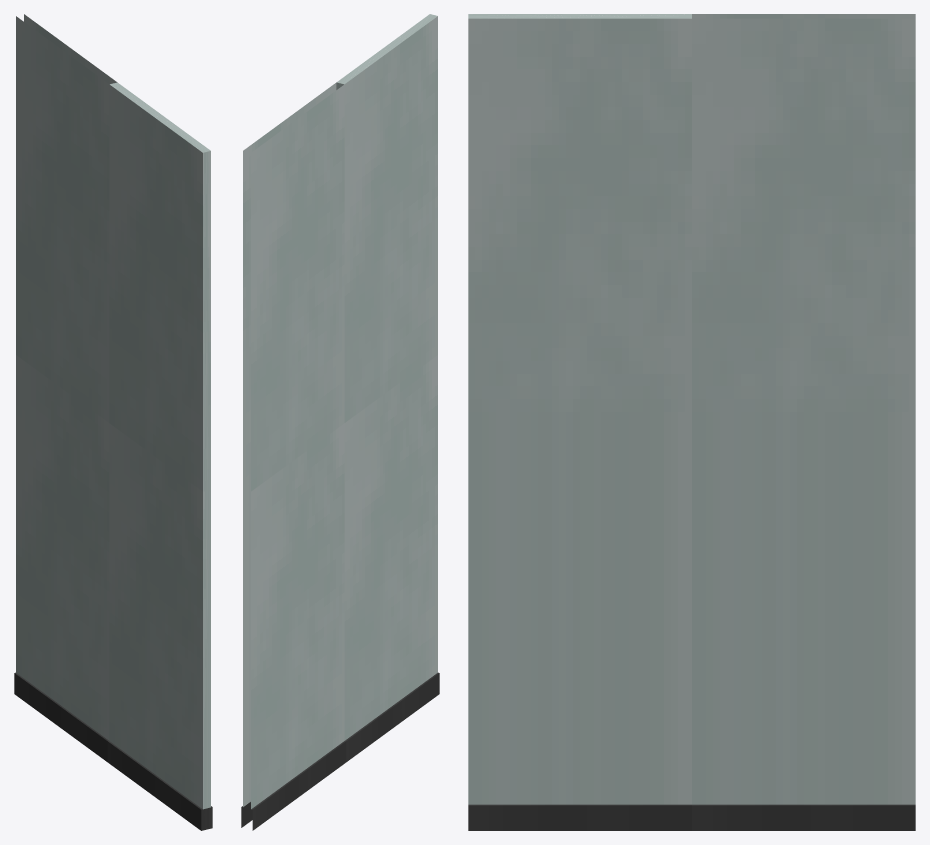
Rendered from walls.glb.
3 views of the same model, side by side, from view 1: azimuth 30°, elevation 25°; view 2: azimuth 150°, elevation 25°; view 3: azimuth 270°, elevation 25° (orthographic). The views are drawn at different scales.
Parts seen in each view (by area): view 1: WallUpperClosed, WallLowerClosed, WallUpper, WallLower; view 2: WallUpper, WallLower, WallUpperClosed, WallLowerClosed; view 3: WallUpper, WallUpperClosed, WallLower, WallLowerClosed.
Boxes of the visible parts, x1,y1,x2,y2 form: WallUpperClosed: (109,82,210,491); WallLowerClosed: (107,423,212,830); WallUpper: (16,14,117,422); WallLower: (14,355,109,761); WallUpper: (243,83,344,491); WallLower: (241,423,346,830); WallUpperClosed: (336,14,437,422); WallLowerClosed: (344,355,439,761); WallUpper: (692,14,915,424); WallUpperClosed: (468,14,691,424); WallLower: (692,424,915,830); WallLowerClosed: (468,424,691,830).
Size of the model in its own units: 0.14 by 8 by 4.
2 materials, 2 textured.
